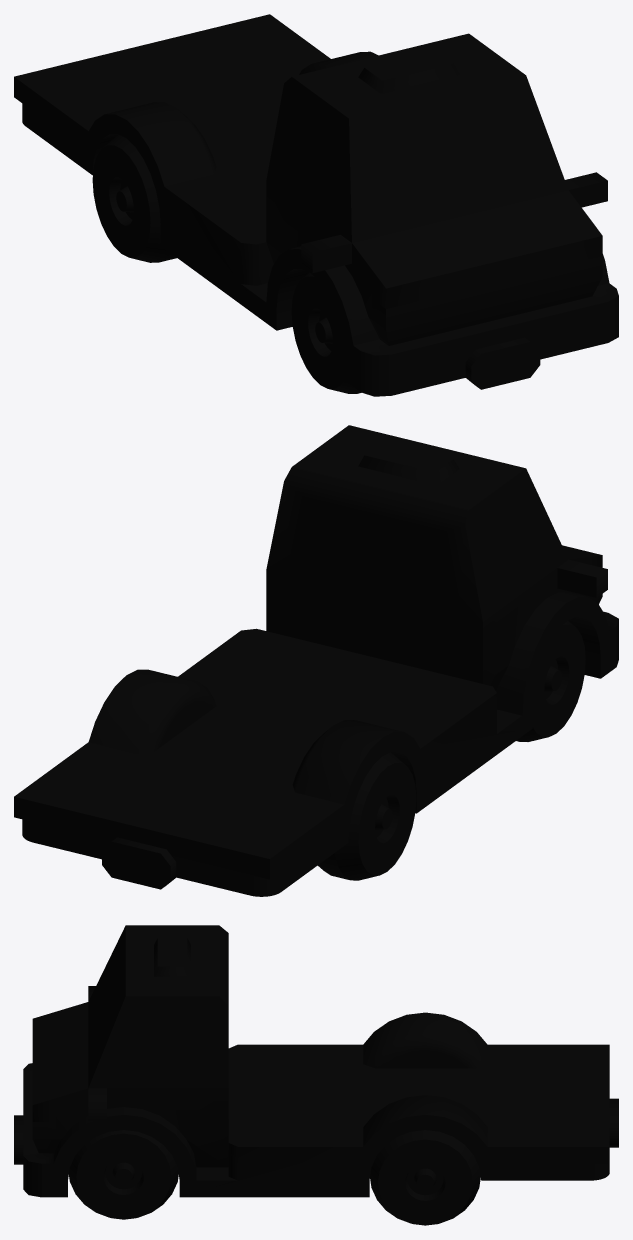
Rendered from delivery-flat.glb.
3 renders of one model, top to bottom at view 1: azimuth 30°, elevation 25°; view 2: azimuth 150°, elevation 25°; view 3: azimuth 270°, elevation 25°, orthographic. The views are drawn at different scales.
Visible parts, largest first — view 1: body, wheel-back-right (×2); view 2: body, wheel-back-right (×2); view 3: body, wheel-back-left (×2).
Boxes of the visible parts, box(x1,y1,x2,y2) form: body: box(14, 14, 618, 396); wheel-back-right (×2): box(92, 134, 361, 393); body: box(14, 425, 618, 896); wheel-back-right (×2): box(318, 621, 585, 880); body: box(14, 925, 618, 1197); wheel-back-left (×2): box(69, 1130, 480, 1225).
Size of the model in its own units: 1.5 by 1.35 by 3.25.
Materials: 1 (1 with a texture image).
